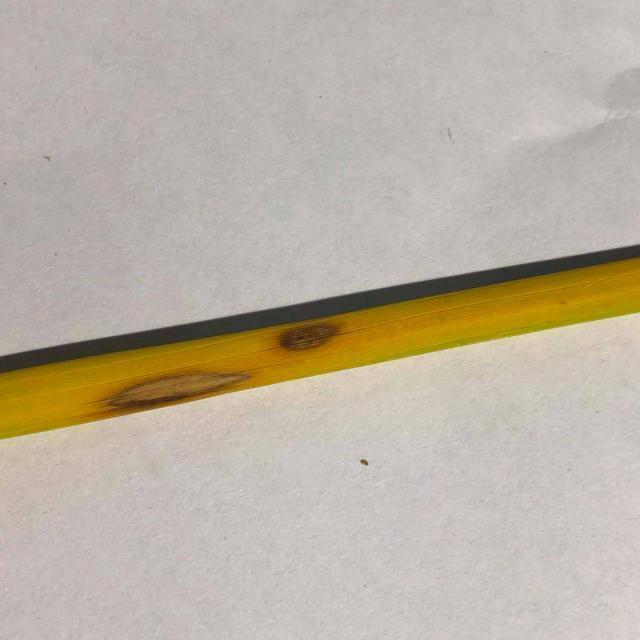Leaf_Blast: (109, 368, 264, 414), (281, 316, 337, 361)
